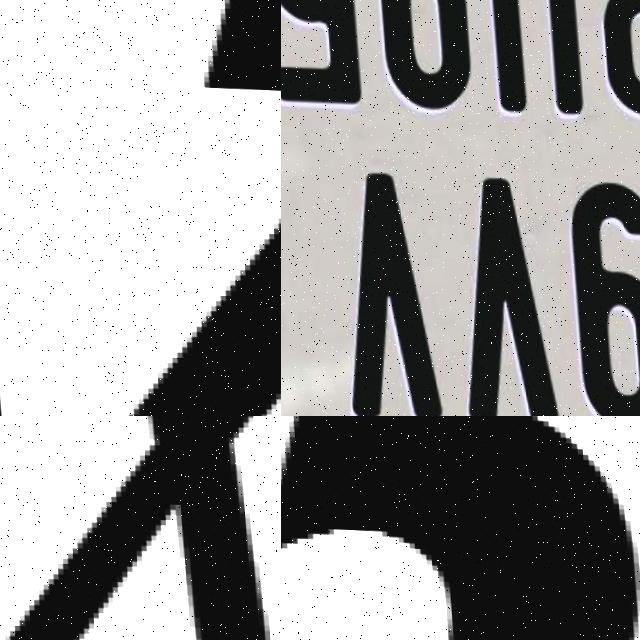5: (281, 0, 357, 103)
9: (557, 169, 640, 416), (360, 0, 470, 112)
C: (281, 416, 640, 640)
P: (592, 0, 640, 113)
U: (478, 0, 581, 114)
V: (323, 159, 435, 416), (437, 168, 551, 416)
X: (0, 416, 281, 640)
Z: (46, 0, 281, 416)
